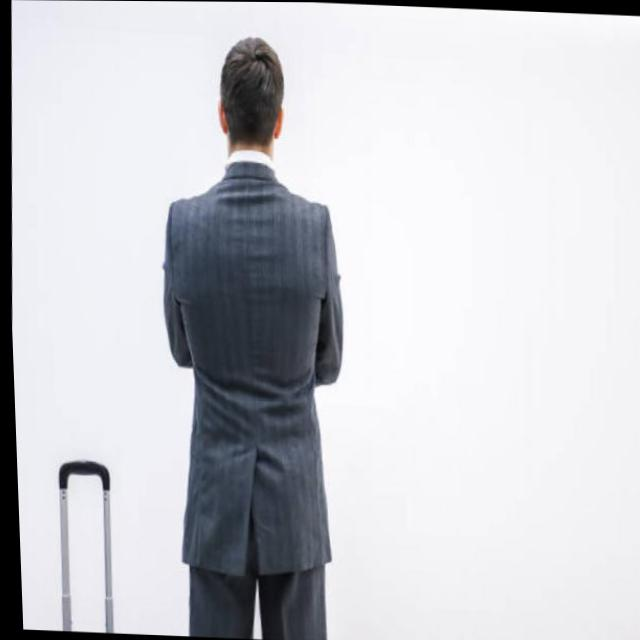no helmet: (187, 33, 312, 179)
